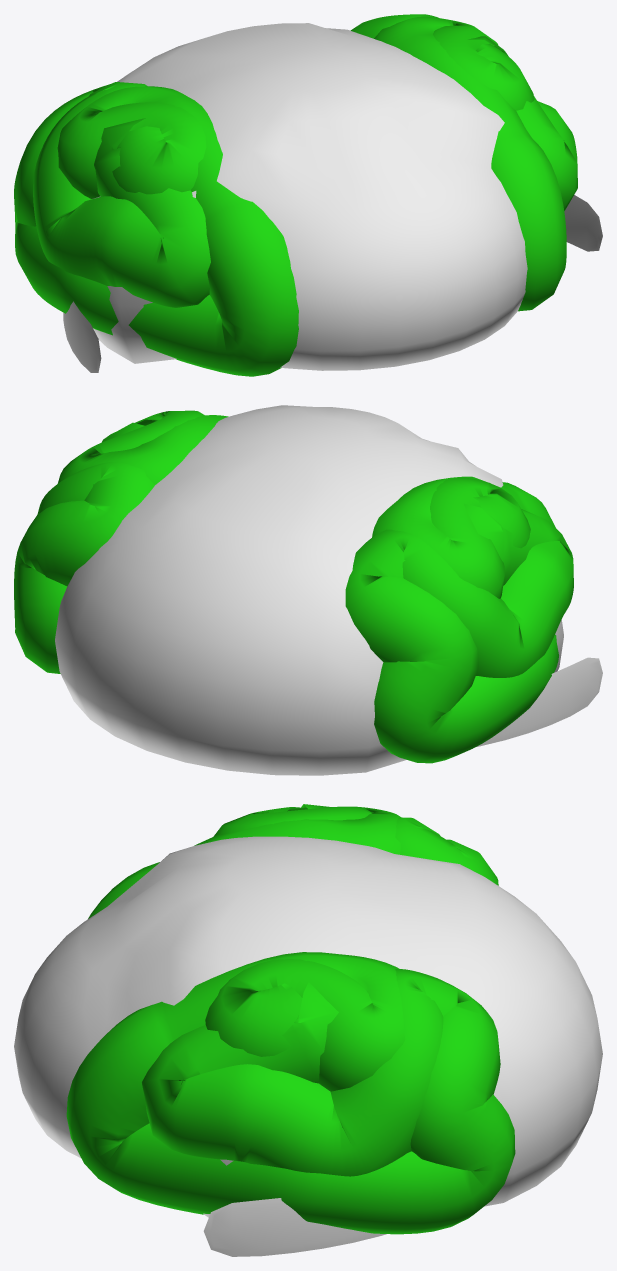
The model's file is Cerebellum.fbx.
3 renders of one model, top to bottom at view 1: azimuth 30°, elevation 25°; view 2: azimuth 150°, elevation 25°; view 3: azimuth 270°, elevation 25°, orthographic. The views are drawn at different scales.
Visible parts, largest first — view 1: Sphere, L Cerebellum, R Cerebellum, Cylinder; view 2: Sphere, L Cerebellum, R Cerebellum, Cylinder; view 3: R Cerebellum, Sphere, L Cerebellum, Cylinder.
Part boxes in pixels (bbox=[...]): Sphere: bbox=[93, 23, 527, 370]; L Cerebellum: bbox=[14, 82, 298, 376]; R Cerebellum: bbox=[350, 14, 577, 311]; Cylinder: bbox=[63, 195, 602, 372]; Sphere: bbox=[55, 405, 563, 775]; L Cerebellum: bbox=[345, 476, 573, 763]; R Cerebellum: bbox=[14, 410, 228, 673]; Cylinder: bbox=[476, 657, 602, 746]; R Cerebellum: bbox=[66, 952, 515, 1234]; Sphere: bbox=[14, 836, 602, 1217]; L Cerebellum: bbox=[88, 804, 498, 918]; Cylinder: bbox=[203, 1198, 386, 1256].
Size of the model in its own units: 46974 by 20600 by 43331.
